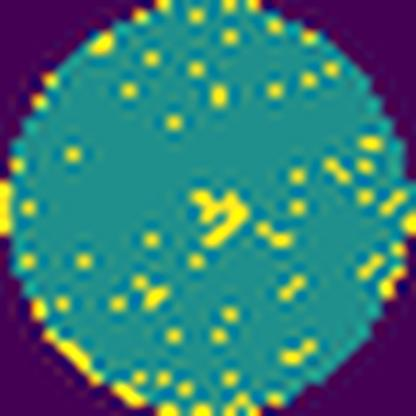Center: (183, 178, 253, 252)
